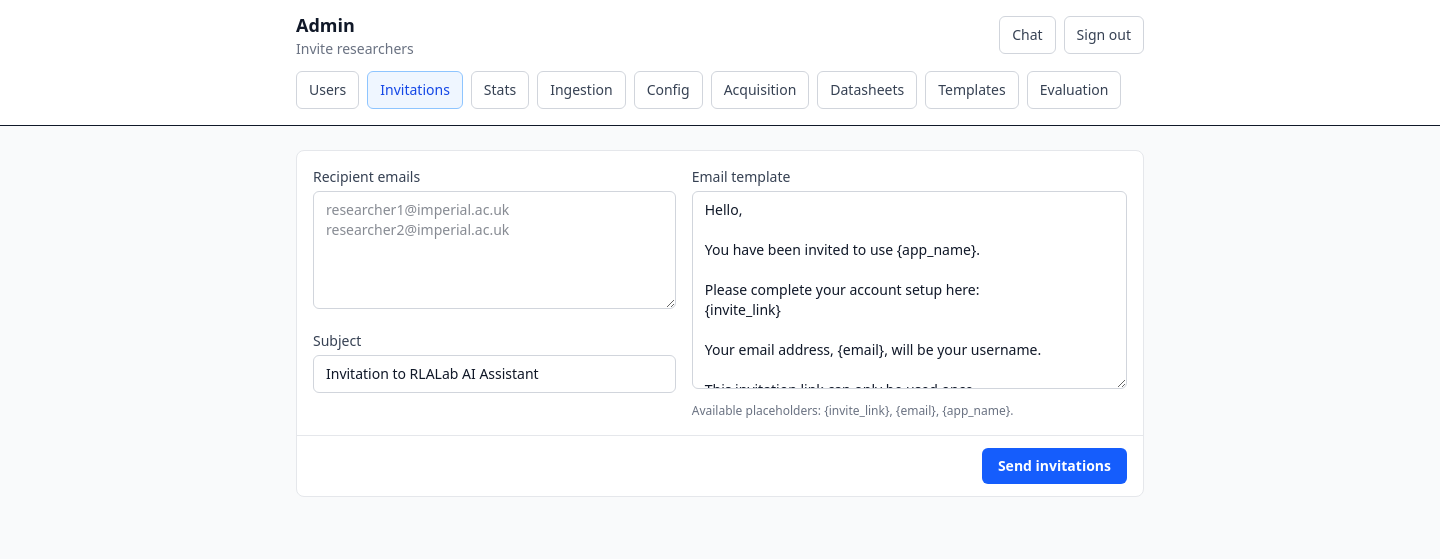
Scenario: AdminInvitationsClient › sends invitations from the admin invitation page
This screenshot has width=1440, height=559.
Type "new@lab.ac.uk" into the text box labelled "Recipient emails" at [494, 250], box x1=313 y1=191 x2=676 y2=309
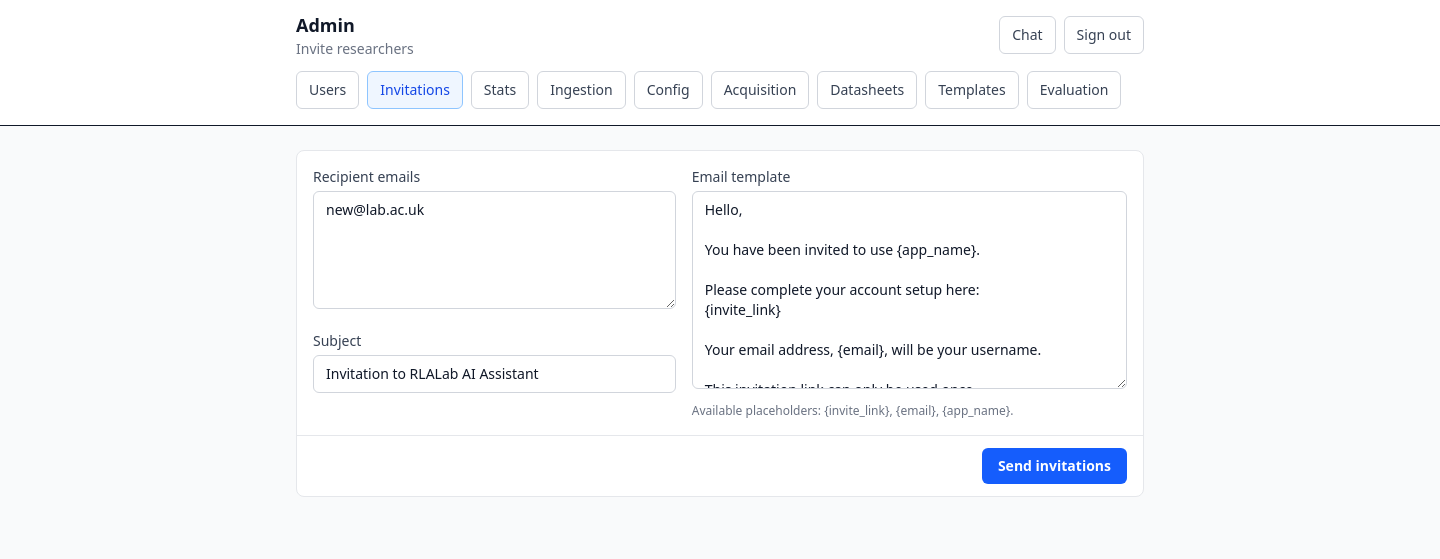
Click the button "Send invitations" at [1054, 466], box x1=982 y1=448 x2=1127 y2=484
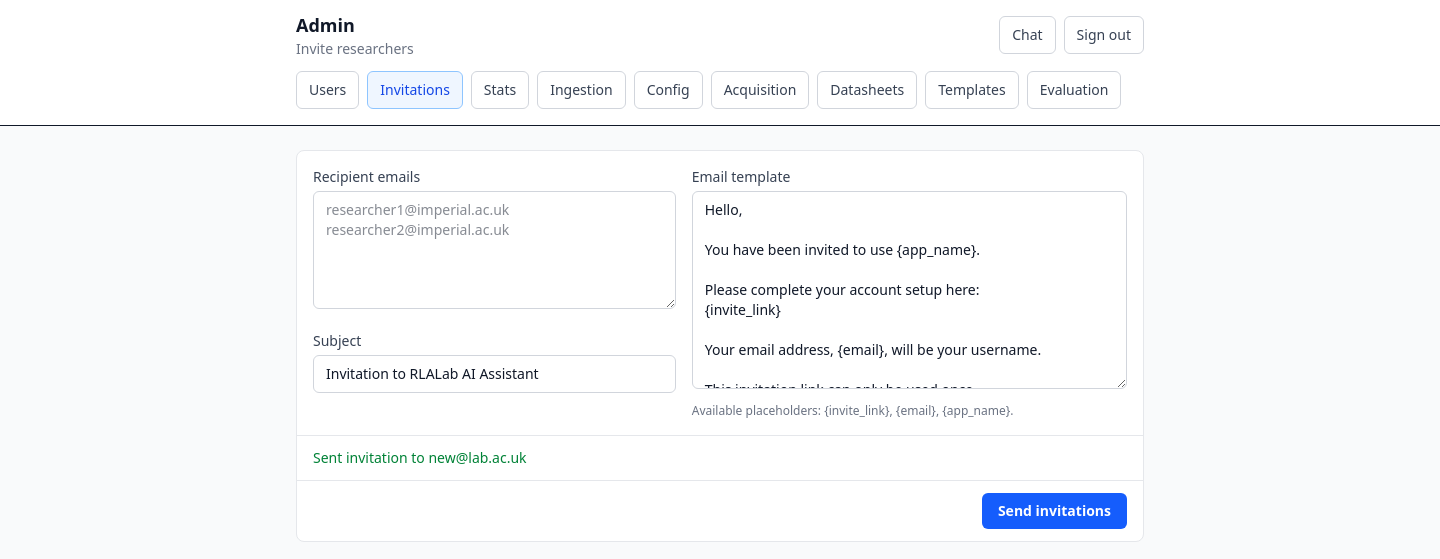
Check: the text "Sent invitation to new@lab.ac.uk" is shown, box x1=313 y1=448 x2=527 y2=467
